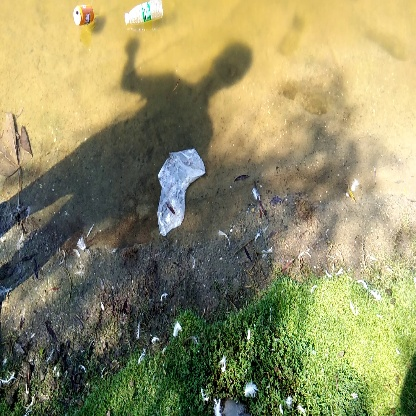bottle: (122, 2, 168, 30), (71, 2, 97, 29)
plastic-bag: (155, 146, 206, 235)
